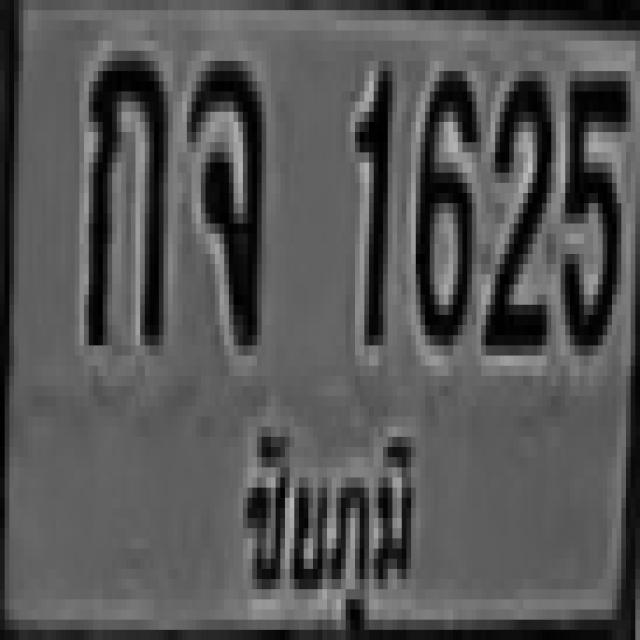1: (353, 61, 390, 335)
10GorGai: (84, 41, 164, 335)
17ChorChan: (187, 51, 257, 335)
2: (481, 61, 547, 345)
5: (558, 61, 624, 345)
6: (414, 61, 474, 335)
Chaiyaphum: (230, 417, 425, 622)
